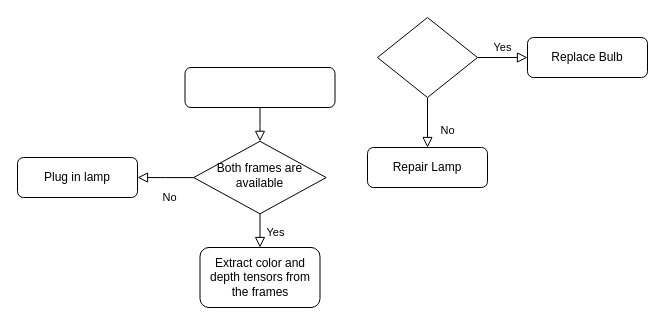
Some shapes in this 665 by 325 pixel diagram are drawn without their labels. The box of each missing label's shape, as (x1, y1, x2, y2) in pixels:
Bulb burned out?: (376, 16, 478, 98)
Wait for a set of new colour and depth fames: (184, 66, 335, 108)
